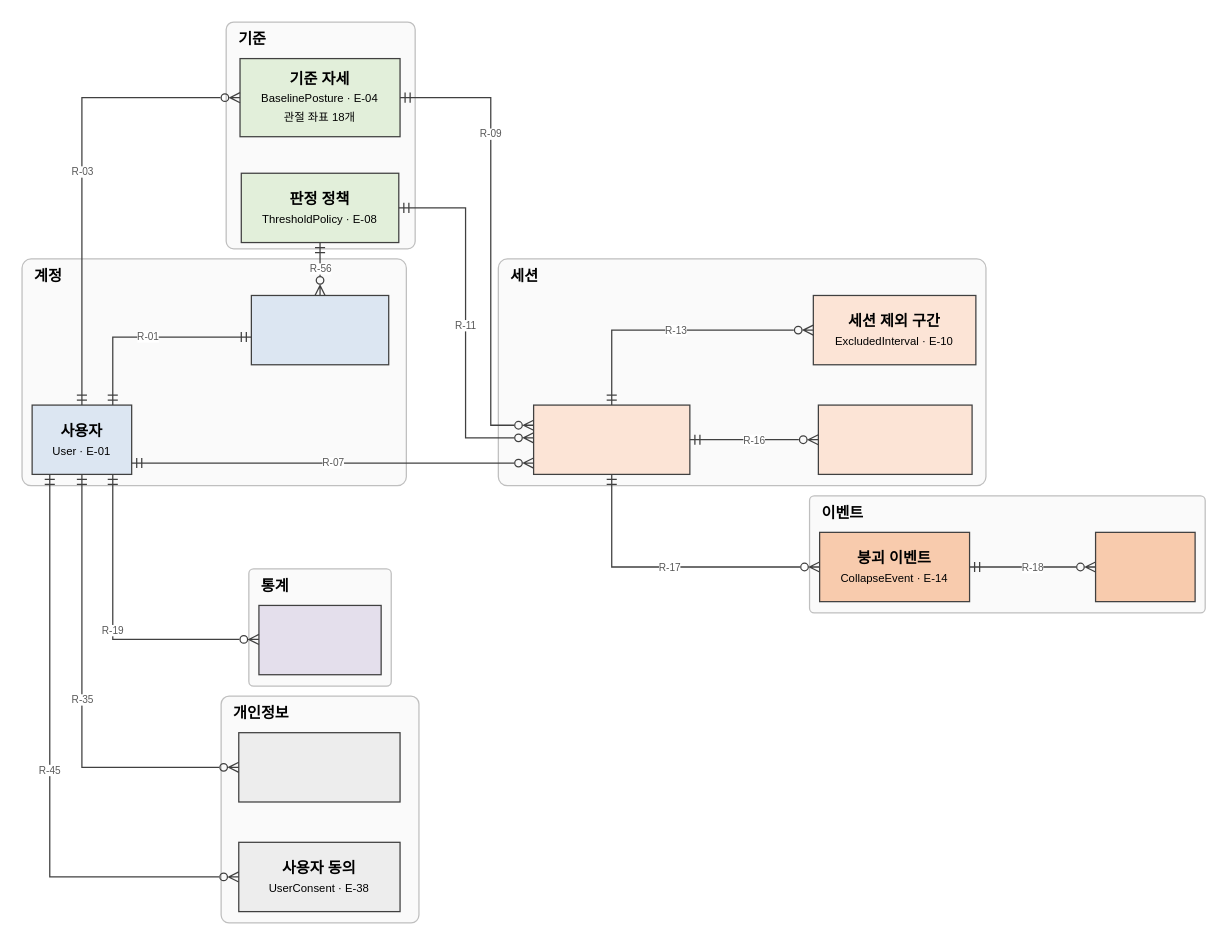
Image size: 1227x945. Some labels were removed from this diagram. Here are the shapes that lost their labels. From the top down, the centre of each, then its label:
the point at 319,329: 사용자 설정 UserSetting · E-02
the point at 611,439: 측정 세션 MonitorSession · E-09
the point at 894,439: 특징값 적재 기록 FeatureArchive · E-13
the point at 1144,566: 교정 알림 Alert · E-15
the point at 319,639: 일별 통계 DailyStat · E-16
the point at 319,766: 삭제 요청 DeletionRequest · E-31
